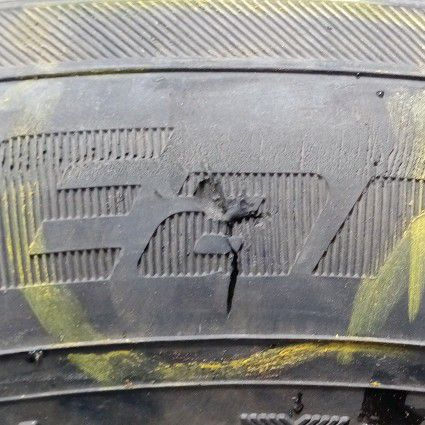cut: (190, 178, 267, 318)
